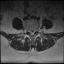CCS_normal: (31, 28, 33, 36)
LFS_normal: (34, 27, 36, 33)
LLS_normal: (33, 28, 34, 36)
RFS_normal: (27, 28, 29, 33)
RLS_normal: (29, 28, 31, 36)
